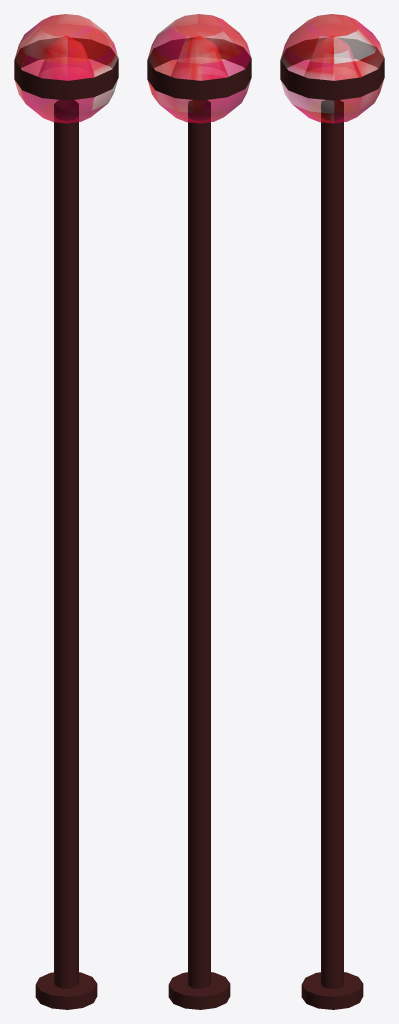
Rendered from SM_StreetLight_v02.FBX.
The picture shows the model from 3 angles, left to right: view 1: azimuth 90°, elevation 25°; view 2: azimuth 150°, elevation 25°; view 3: azimuth 330°, elevation 25°; orthographic projection.
Parts seen in each view (by area): view 1: StreetLight_tall_v2; view 2: StreetLight_tall_v2; view 3: StreetLight_tall_v2.
Part boxes in pixels (<box>): StreetLight_tall_v2: <box>14,14,118,1009</box>; StreetLight_tall_v2: <box>147,14,251,1009</box>; StreetLight_tall_v2: <box>280,14,384,1009</box>.
Bounding box in the file's own units: 0.403 × 4.18 × 0.403.
2 materials, 2 textured.
